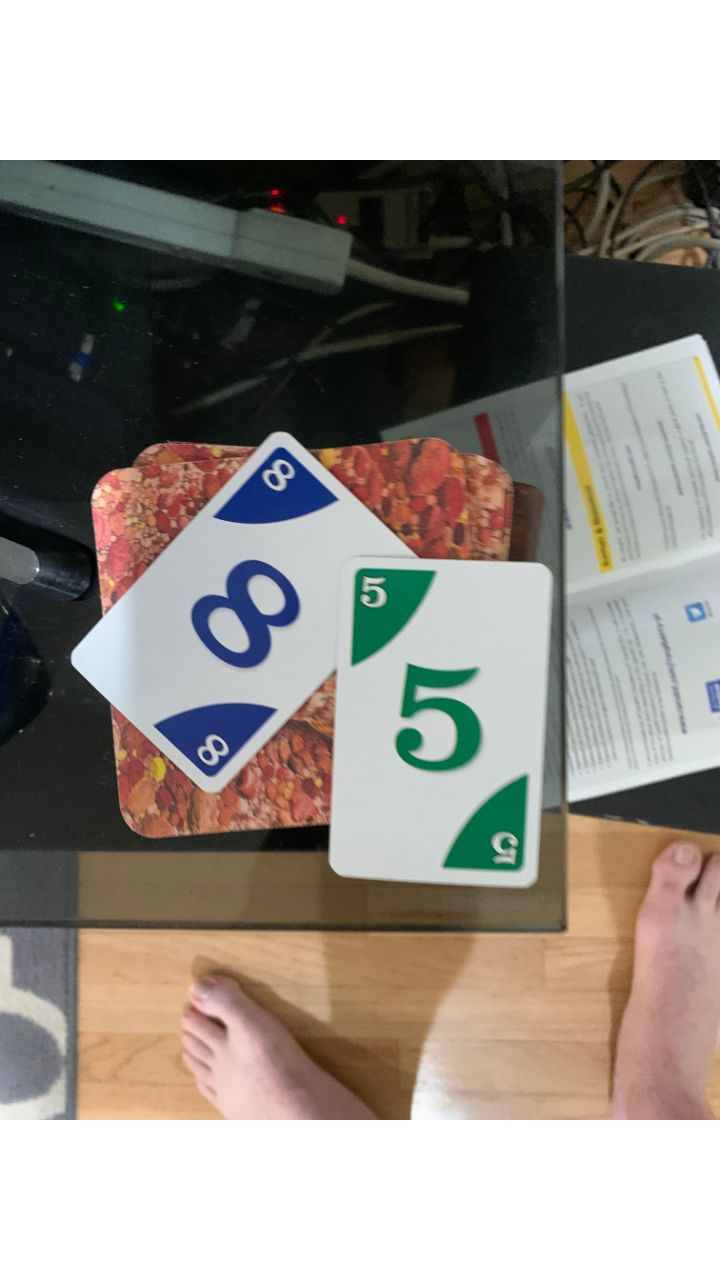eight: (68, 431, 426, 794)
five: (326, 560, 554, 890)
